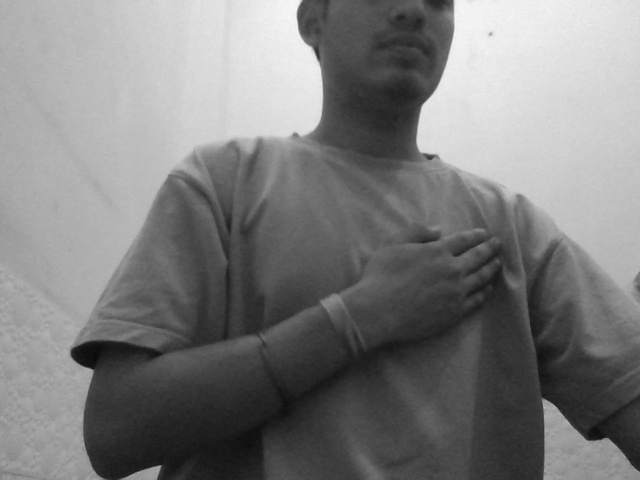Sorry: (336, 206, 535, 358)
